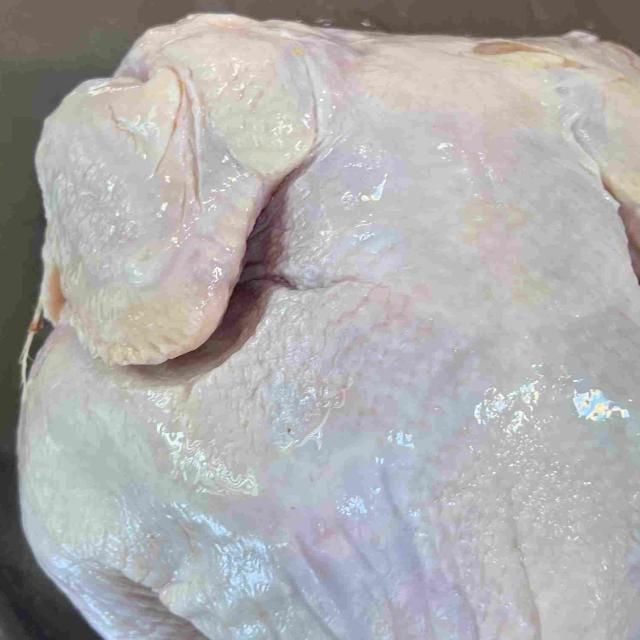back: (161, 146, 640, 640)
leg: (15, 367, 208, 640)
wing: (29, 10, 337, 371), (571, 37, 640, 277)
